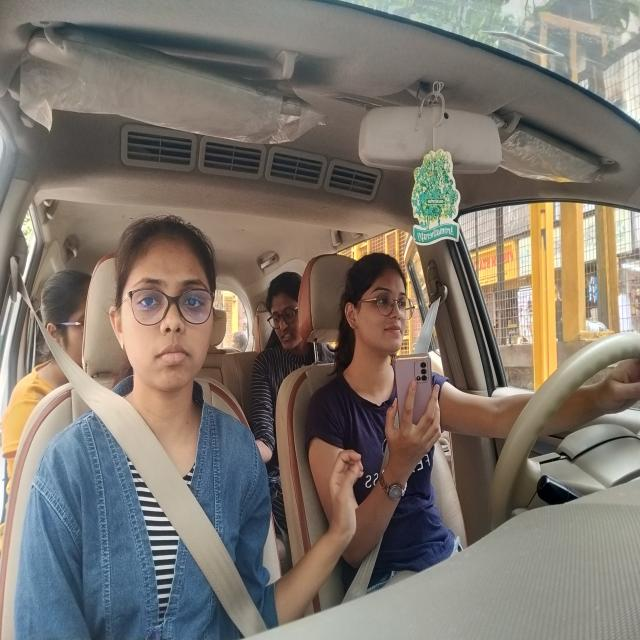mobile: (385, 340, 447, 448)
person: (103, 212, 235, 418), (339, 254, 418, 364), (33, 252, 95, 392), (254, 268, 308, 364)
